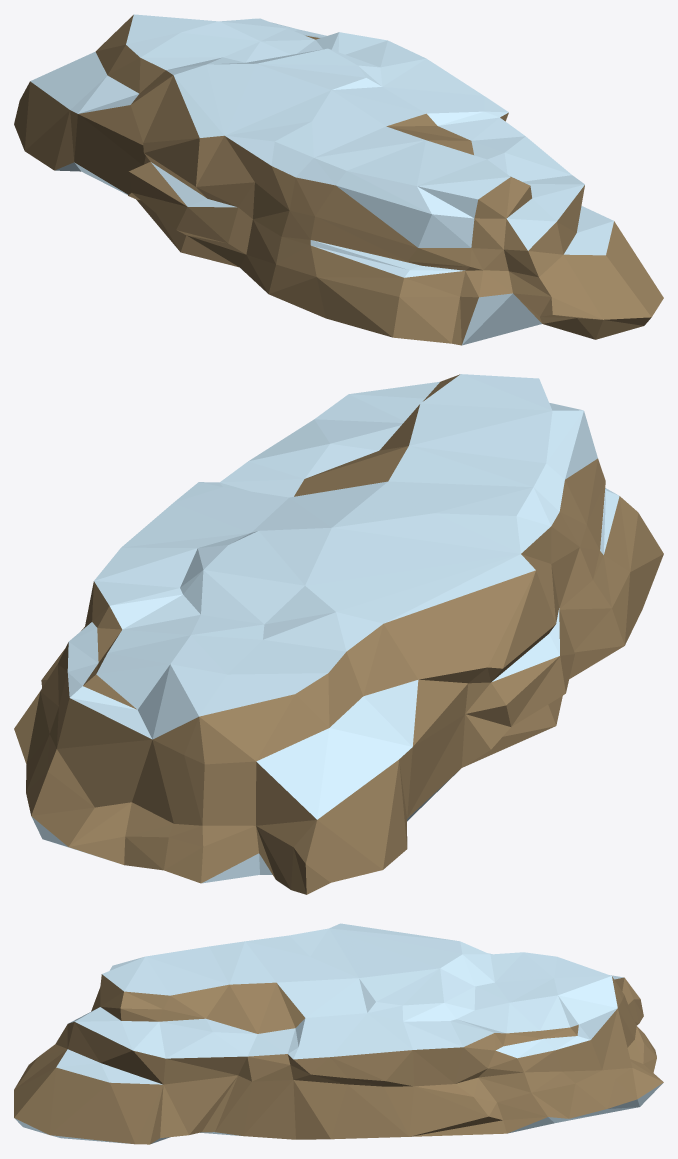
The model's file is model_polytope_snow_rock01.fbx.
3 views of the same model, one above another, from view 1: azimuth 30°, elevation 25°; view 2: azimuth 150°, elevation 25°; view 3: azimuth 270°, elevation 25° (orthographic). The views are drawn at different scales.
Parts seen in each view (by area): view 1: model_polytope_snow_rock_01; view 2: model_polytope_snow_rock_01; view 3: model_polytope_snow_rock_01.
Part boxes in pixels (x1,y1,x2,y2): model_polytope_snow_rock_01: (14,14,663,345); model_polytope_snow_rock_01: (14,374,663,894); model_polytope_snow_rock_01: (14,923,663,1144).
Bounding box in the file's own units: 696 × 272 × 1389.
1 material, 1 textured.
